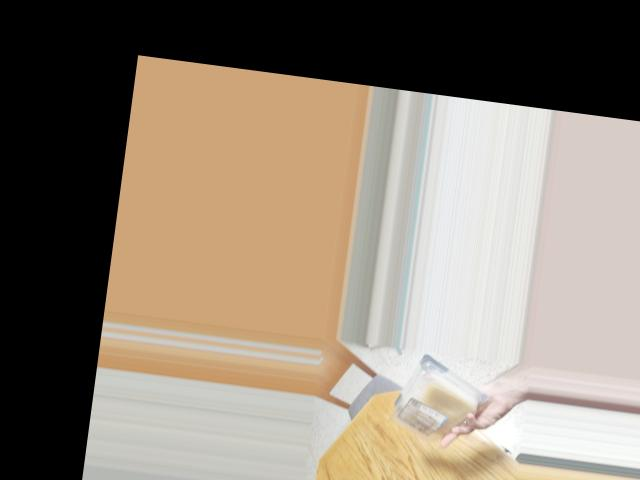cheese: (389, 357, 492, 434)
